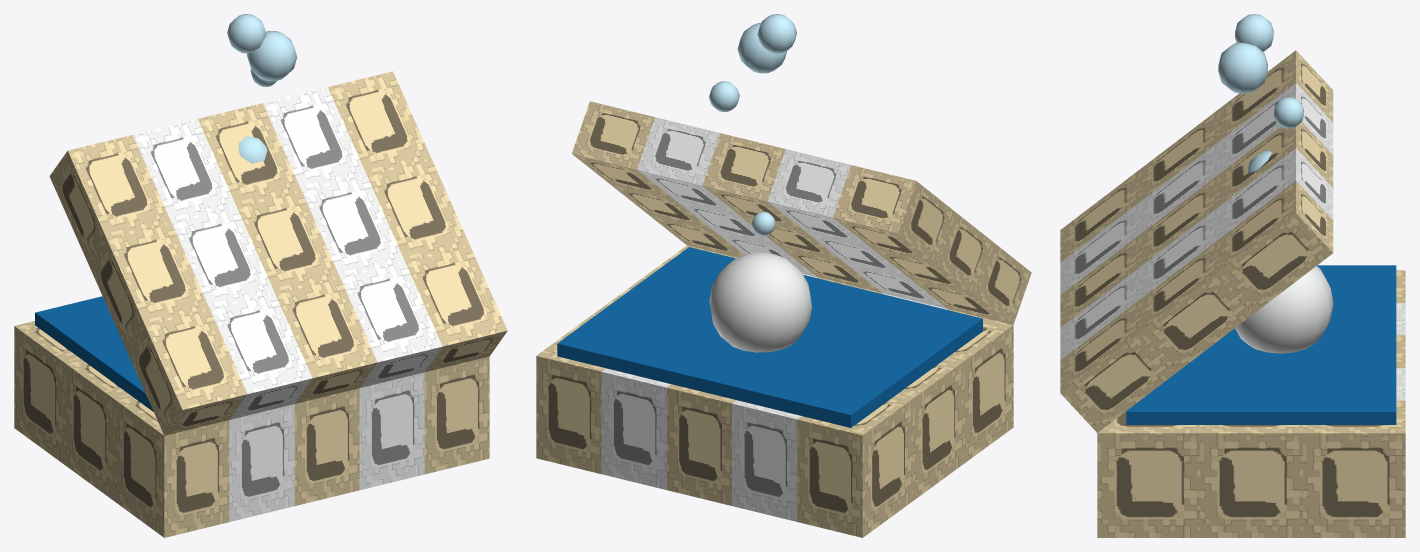
Rendered from GiantClam.glb.
3 views of the same model, side by side, from view 1: azimuth 30°, elevation 25°; view 2: azimuth 150°, elevation 25°; view 3: azimuth 270°, elevation 25° (orthographic). The views are drawn at different scales.
Parts seen in each view (by area): view 1: GiantClam; view 2: GiantClam; view 3: GiantClam.
Boxes of the visible parts, <box> form: GiantClam: <box>14,14,507,537</box>; GiantClam: <box>536,14,1031,537</box>; GiantClam: <box>1060,14,1405,537</box>.
Bounding box in the file's own units: 4 × 5.02 × 3.59.
Materials: 1 (1 with a texture image).
